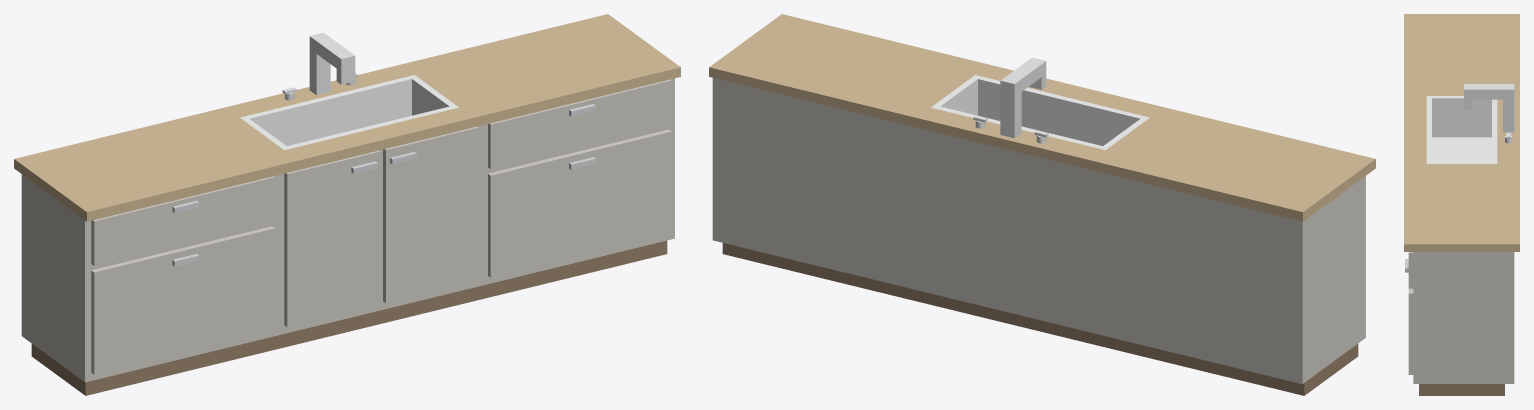
File: kitchen-run-east.gltf
3 views of the same model, side by side, from view 1: azimuth 30°, elevation 25°; view 2: azimuth 150°, elevation 25°; view 3: azimuth 270°, elevation 25° (orthographic). The views are drawn at different scales.
Parts seen in each view (by area): view 1: door_0, door_2, counter_l, counter_r, carcass_l, sink_door_l_1, sink_door_r_1, plinth, drawer_0, drawer_2, basin_wall_b, counter_front (+7 smaller); view 2: carcass_l, carcass_r, carcass_back, counter_l, counter_r, plinth, basin_wall_f, counter_back, counter_front, faucet_post, basin_wall_r, faucet_arm; view 3: carcass_r, counter_r, counter_l, basin_wall_l, counter_front, basin_floor, counter_back, plinth, faucet_arm, faucet_post, door_2, basin_wall_f (+3 smaller).
Boxes of the visible parts, x1=… form: door_0: x1=91, y1=226, x2=275, y2=374; door_2: x1=488, y1=129, x2=671, y2=277; counter_l: x1=14, y1=107, x2=298, y2=221; counter_r: x1=401, y1=14, x2=680, y2=127; carcass_l: x1=21, y1=174, x2=288, y2=382; sink_door_l_1: x1=284, y1=150, x2=379, y2=327; sink_door_r_1: x1=383, y1=126, x2=478, y2=303; plinth: x1=31, y1=240, x2=667, y2=395; drawer_0: x1=91, y1=176, x2=275, y2=265; drawer_2: x1=488, y1=79, x2=671, y2=169; basin_wall_b: x1=246, y1=76, x2=411, y2=145; counter_front: x1=285, y1=107, x2=473, y2=169; carcass_l: x1=1099, y1=172, x2=1365, y2=384; carcass_r: x1=712, y1=78, x2=915, y2=289; carcass_back: x1=916, y1=127, x2=1098, y2=334; counter_l: x1=1091, y1=107, x2=1375, y2=221; counter_r: x1=709, y1=14, x2=988, y2=127; plinth: x1=722, y1=243, x2=1358, y2=395; basin_wall_f: x1=978, y1=76, x2=1143, y2=145; counter_back: x1=916, y1=107, x2=1104, y2=169; counter_front: x1=975, y1=64, x2=1163, y2=117; faucet_post: x1=1000, y1=75, x2=1021, y2=138; basin_wall_r: x1=931, y1=75, x2=980, y2=115; faucet_arm: x1=1000, y1=57, x2=1046, y2=96; carcass_r: x1=1413, y1=252, x2=1514, y2=383; counter_r: x1=1404, y1=164, x2=1519, y2=251; counter_l: x1=1404, y1=14, x2=1519, y2=95; basin_wall_l: x1=1426, y1=96, x2=1491, y2=137; counter_front: x1=1404, y1=96, x2=1426, y2=163; basin_floor: x1=1432, y1=137, x2=1491, y2=161; counter_back: x1=1497, y1=96, x2=1519, y2=163; plinth: x1=1419, y1=384, x2=1504, y2=395; faucet_arm: x1=1464, y1=84, x2=1514, y2=99; faucet_post: x1=1503, y1=84, x2=1514, y2=132; door_2: x1=1408, y1=288, x2=1413, y2=374; basin_wall_f: x1=1426, y1=98, x2=1431, y2=161.
Size of the model in its own units: 0.1825 by 0.0725 by 0.0388.
